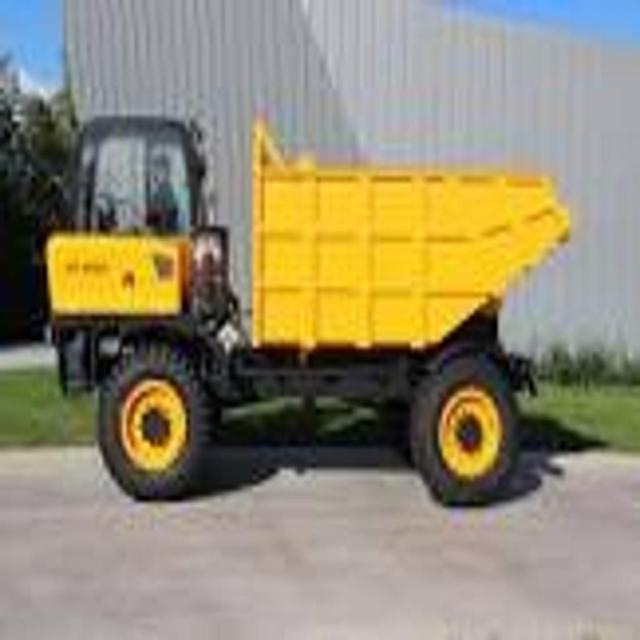dump_truck: (39, 100, 574, 518)
